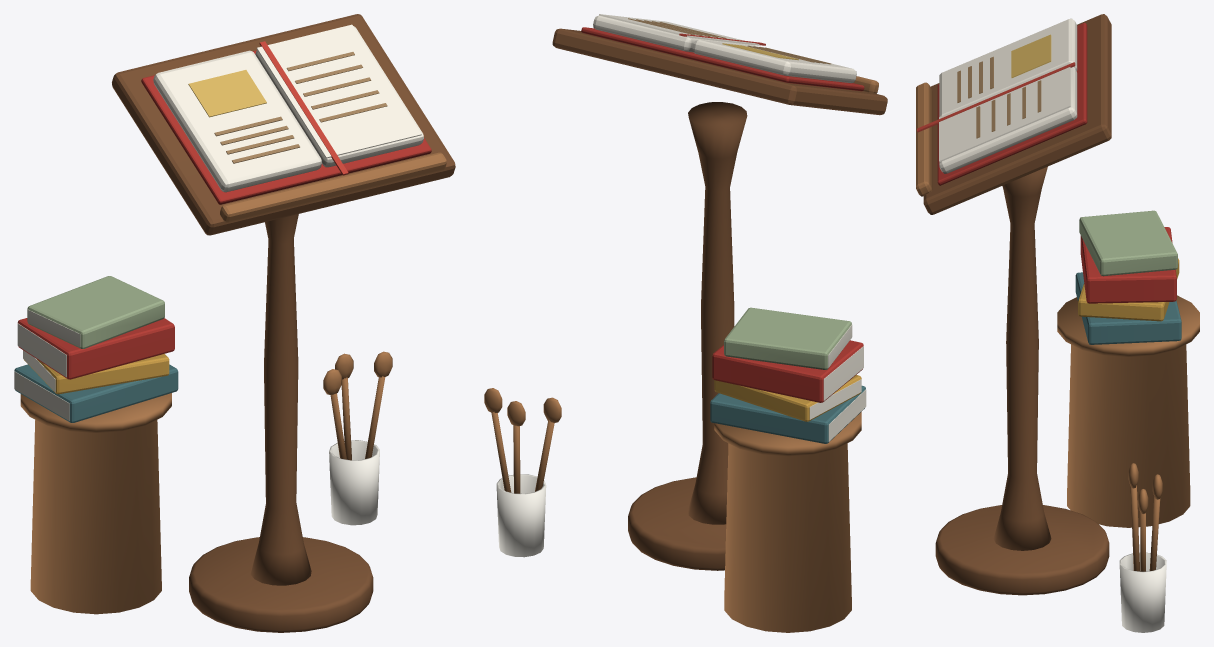
Rendered from cookbookLectern.glb.
3 renders of one model, left to right at view 1: azimuth 30°, elevation 25°; view 2: azimuth 150°, elevation 25°; view 3: azimuth 270°, elevation 25°, orthographic. The views are drawn at different scales.
Visible parts, largest first — view 1: body, page; view 2: body, page; view 3: body, page.
Boxes of the visible parts, x1,y1,x2,y2 form: body: (14,14,455,632); page: (256,24,421,158); body: (484,15,887,632); page: (599,14,759,45); body: (916,14,1199,632); page: (939,62,1070,161).
Size of the model in its own units: 0.8359 by 1.15 by 0.5885.
